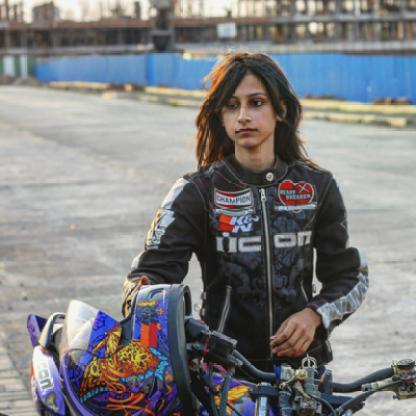Without Helmet: (194, 45, 304, 157)
